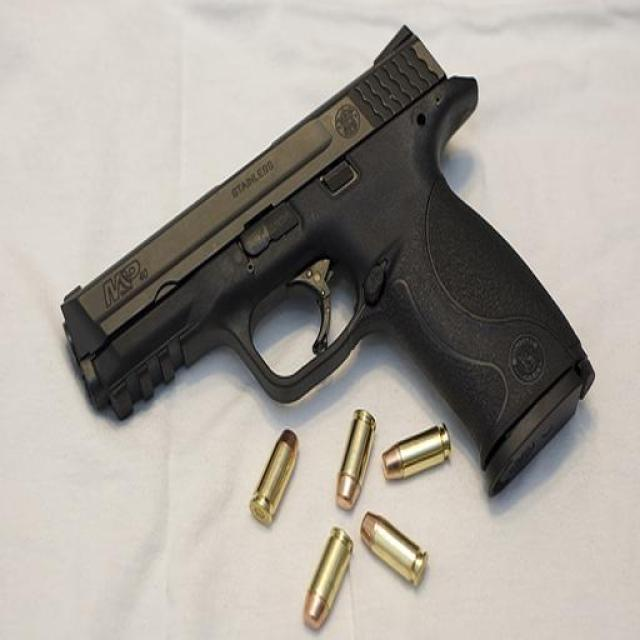pistol: (60, 22, 594, 506)
